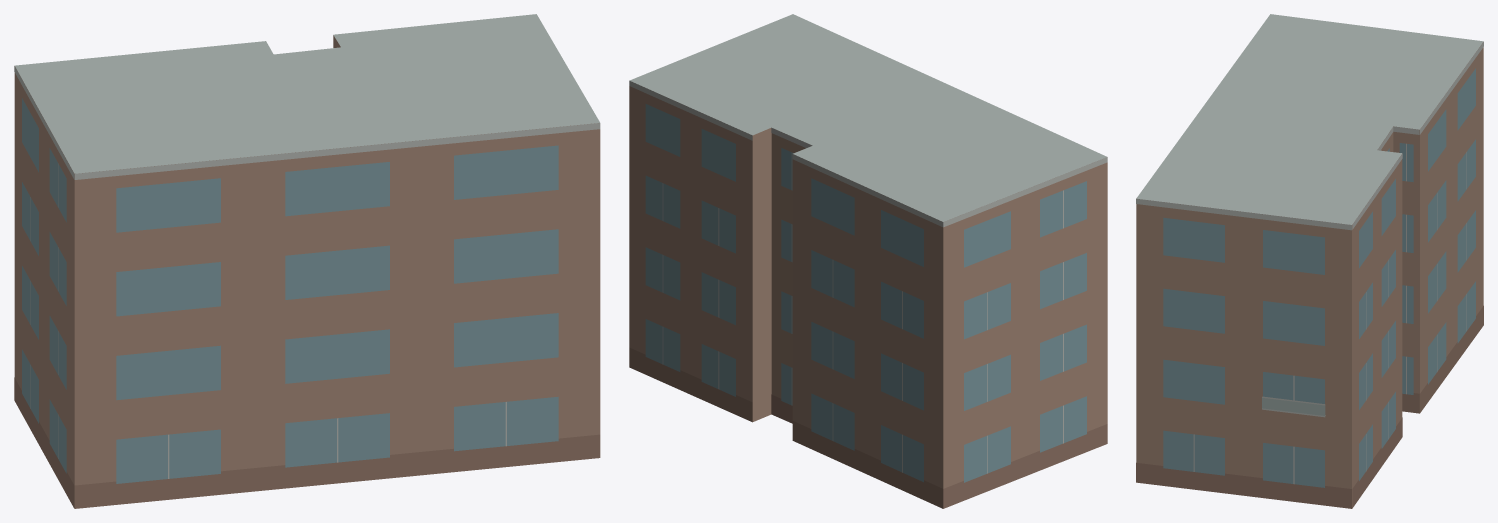
File: survey-upis-32945639.glb
3 views of the same model, side by side, from view 1: azimuth 30°, elevation 25°; view 2: azimuth 150°, elevation 25°; view 3: azimuth 270°, elevation 25° (orthographic). The views are drawn at different scales.
Parts seen in each view (by area): view 1: survey-upis-32945639.tmp; view 2: survey-upis-32945639.tmp; view 3: survey-upis-32945639.tmp.
Part boxes in pixels (<box>): survey-upis-32945639.tmp: <box>14,14,600,508</box>; survey-upis-32945639.tmp: <box>629,14,1107,508</box>; survey-upis-32945639.tmp: <box>1136,14,1483,508</box>.
Bounding box in the file's own units: 20.73 × 13 × 14.44.
